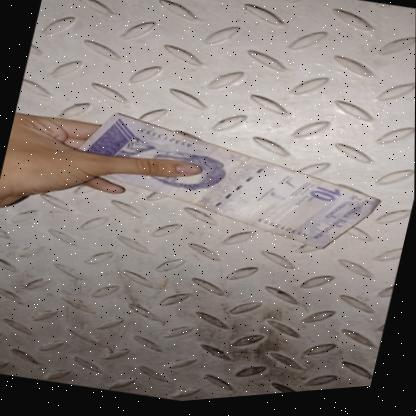ten-front-vef: (60, 89, 392, 282)
